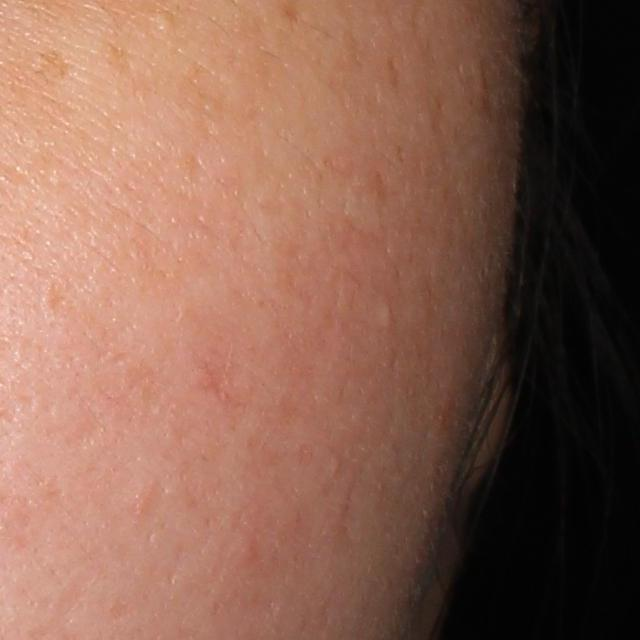comedo: (374, 299, 397, 332), (152, 8, 178, 34)
melasma: (31, 51, 69, 82)
